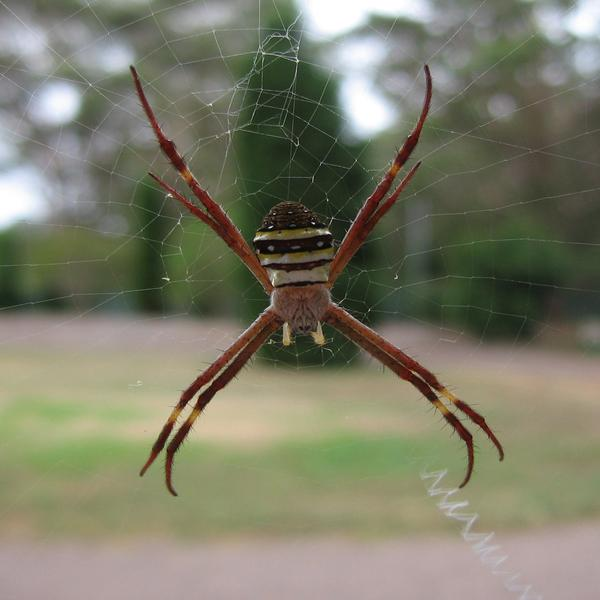St Andrew's Cross Spider: (135, 62, 504, 491)
